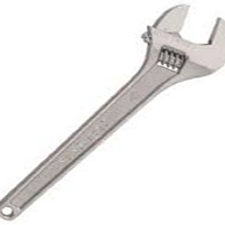wrench: (11, 1, 225, 209)
